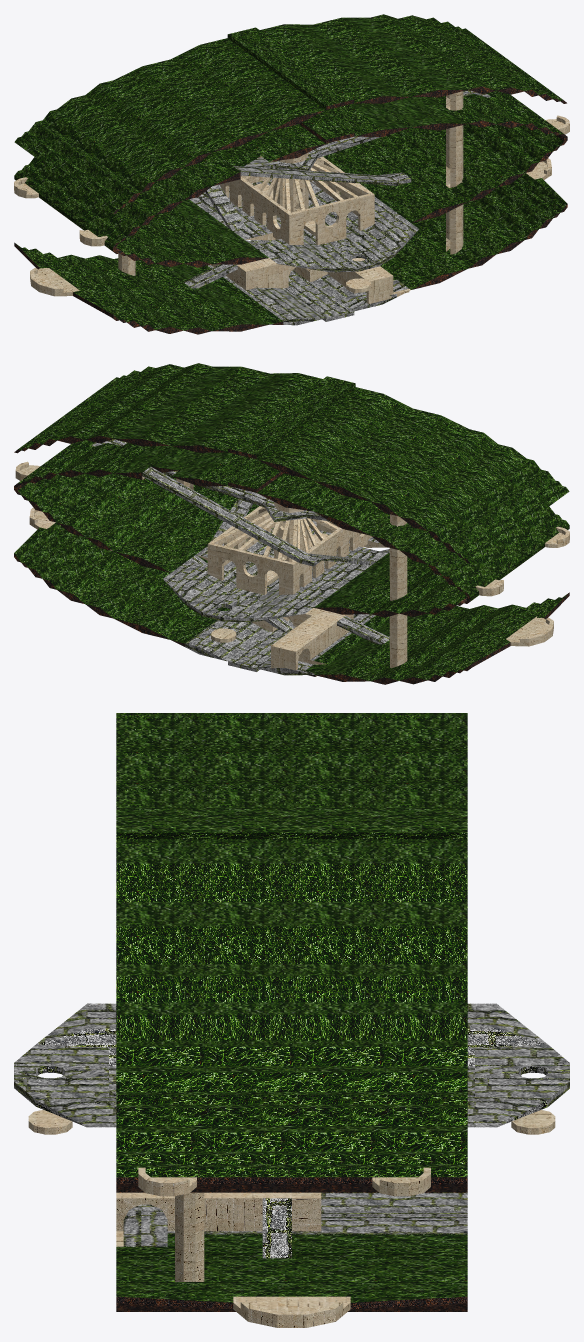
Rendered from PlainsDM.glb.
3 views of the same model, one above another, from view 1: azimuth 30°, elevation 25°; view 2: azimuth 150°, elevation 25°; view 3: azimuth 270°, elevation 25° (orthographic). The views are drawn at different scales.
Parts seen in each view (by area): view 1: Plains; view 2: Plains; view 3: Plains.
Boxes of the visible parts, bbox=[...] form: Plains: bbox=[14, 14, 569, 334]; Plains: bbox=[14, 363, 569, 684]; Plains: bbox=[14, 713, 569, 1327].
Bounding box in the file's own units: 119 × 47.79 × 62.62.
4 materials, 4 textured.
